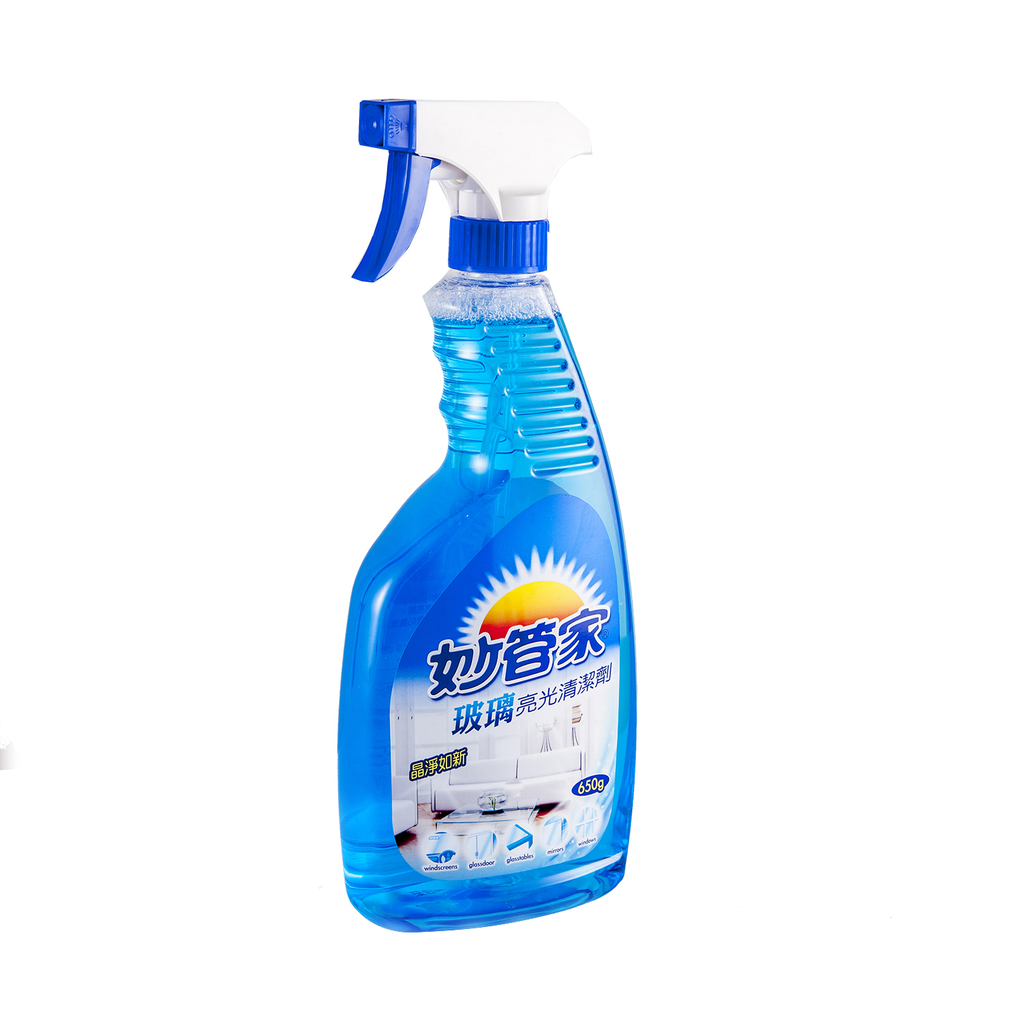cleaner: (296, 88, 676, 938)
